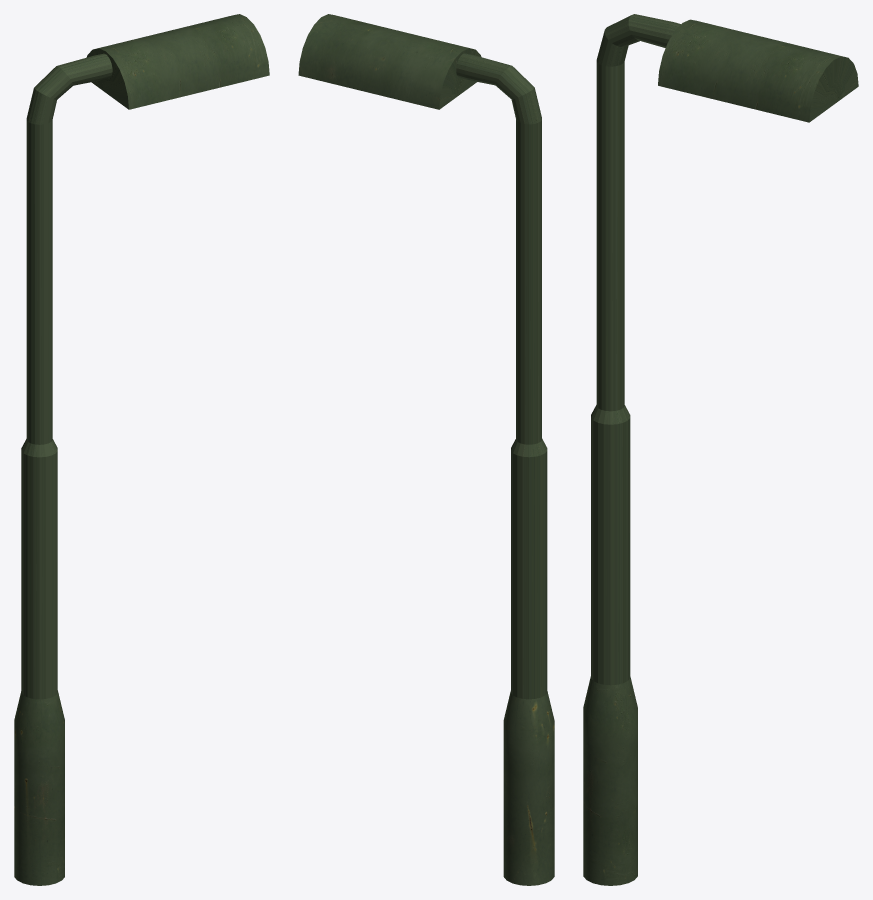
File: Lightpoll.fbx
The picture shows the model from 3 angles, left to right: view 1: azimuth 30°, elevation 25°; view 2: azimuth 150°, elevation 25°; view 3: azimuth 330°, elevation 25°; orthographic projection. The views are drawn at different scales.
Visible parts, largest first — view 1: Cylinder001; view 2: Cylinder001; view 3: Cylinder001.
Boxes of the visible parts, x1,y1,x2,y2 form: Cylinder001: (14,14,269,885); Cylinder001: (298,14,554,885); Cylinder001: (583,14,858,885).
Size of the model in its own units: 315 by 1056 by 109.
Materials: 1 (1 with a texture image).
